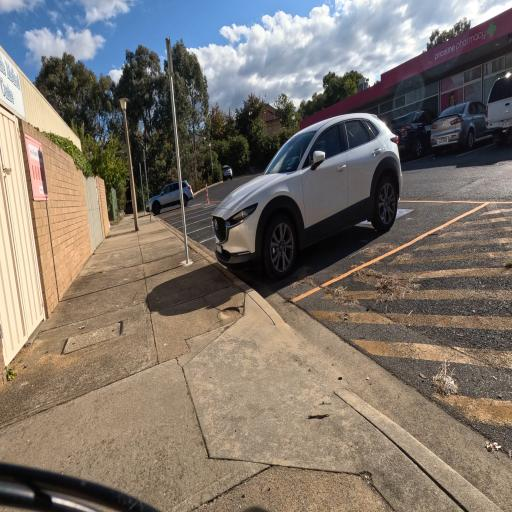kerb_cut: (178, 290, 412, 477)
